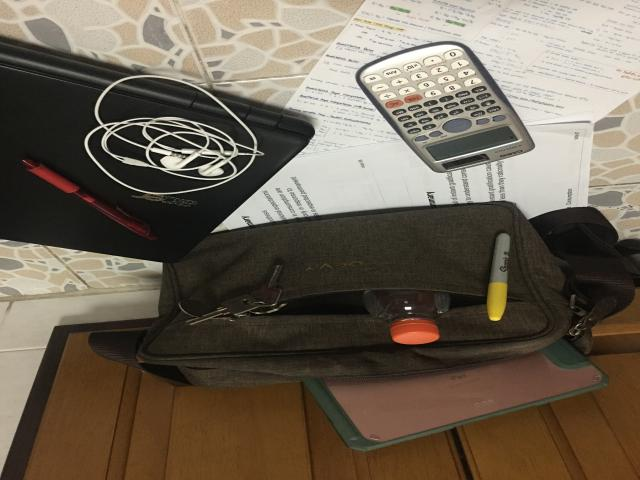Keys: (185, 265, 285, 325)
Pen: (22, 158, 157, 240), (487, 233, 510, 321)
bottle: (363, 290, 450, 344)
paper: (287, 0, 640, 152), (223, 123, 593, 230)
wire: (83, 75, 263, 195)
